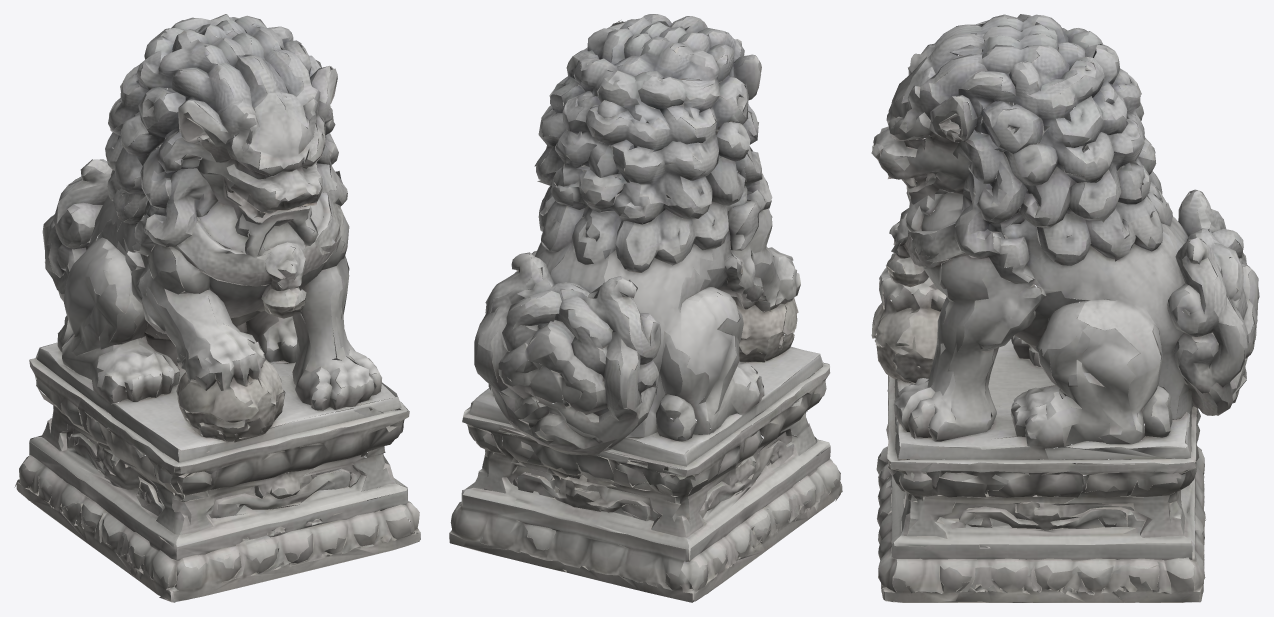
The model's file is B1-stone-lion.glb.
3 views of the same model, side by side, from view 1: azimuth 30°, elevation 25°; view 2: azimuth 150°, elevation 25°; view 3: azimuth 270°, elevation 25° (orthographic). The views are drawn at different scales.
Visible parts, largest first — view 1: Prop_B1; view 2: Prop_B1; view 3: Prop_B1.
Part boxes in pixels (bbox=[...]): Prop_B1: bbox=[14, 14, 420, 602]; Prop_B1: bbox=[449, 14, 842, 602]; Prop_B1: bbox=[871, 14, 1259, 602].
Bounding box in the file's own units: 0.5539 × 1.01 × 0.6933.
Materials: 1 (1 with a texture image).
